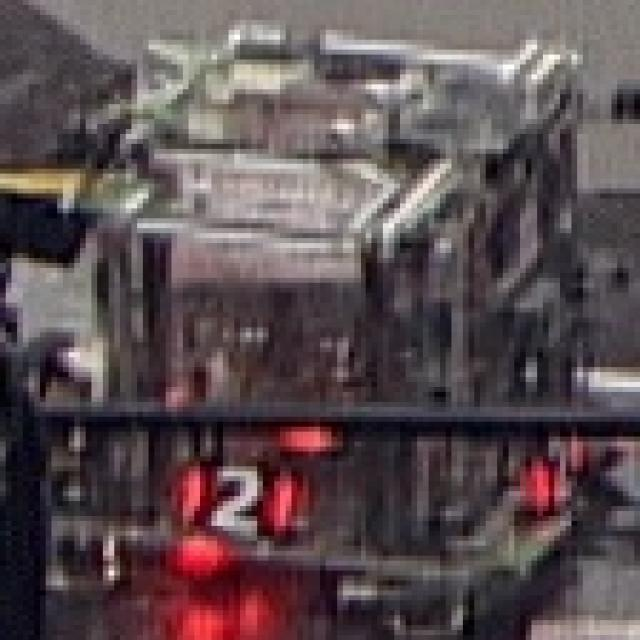R2: (160, 446, 303, 546), (503, 419, 588, 514)
